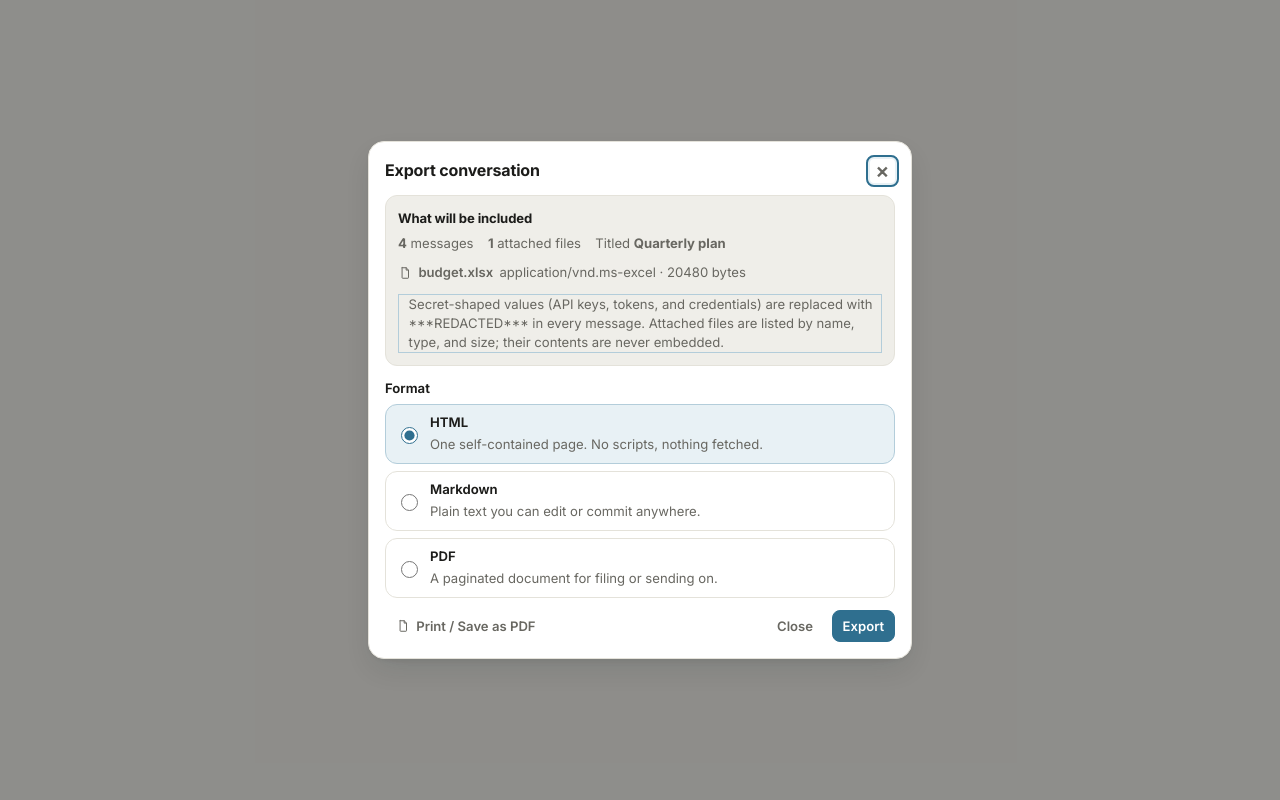
ExportConversationDialog — BUG-22 › reports a refused format at field level rather than generically
expect the heading "What will be included" is shown: met, box [398,210,532,226]
Note: The export route is unrouted here, so the stub 404s.
Click the button "Export": (863, 626) [832,610,895,642]
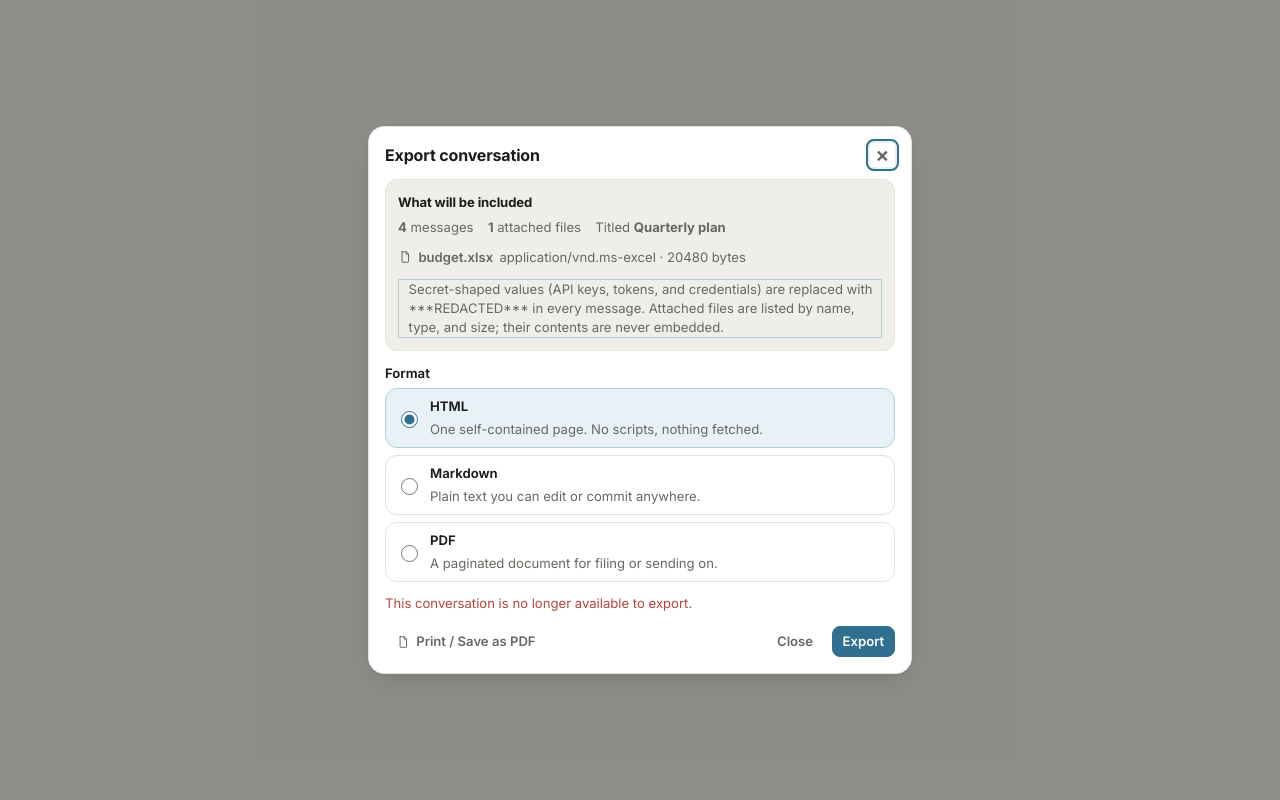
expect the text "This conversation is no longer available to export." is shown: met, box [385,595,692,611]
